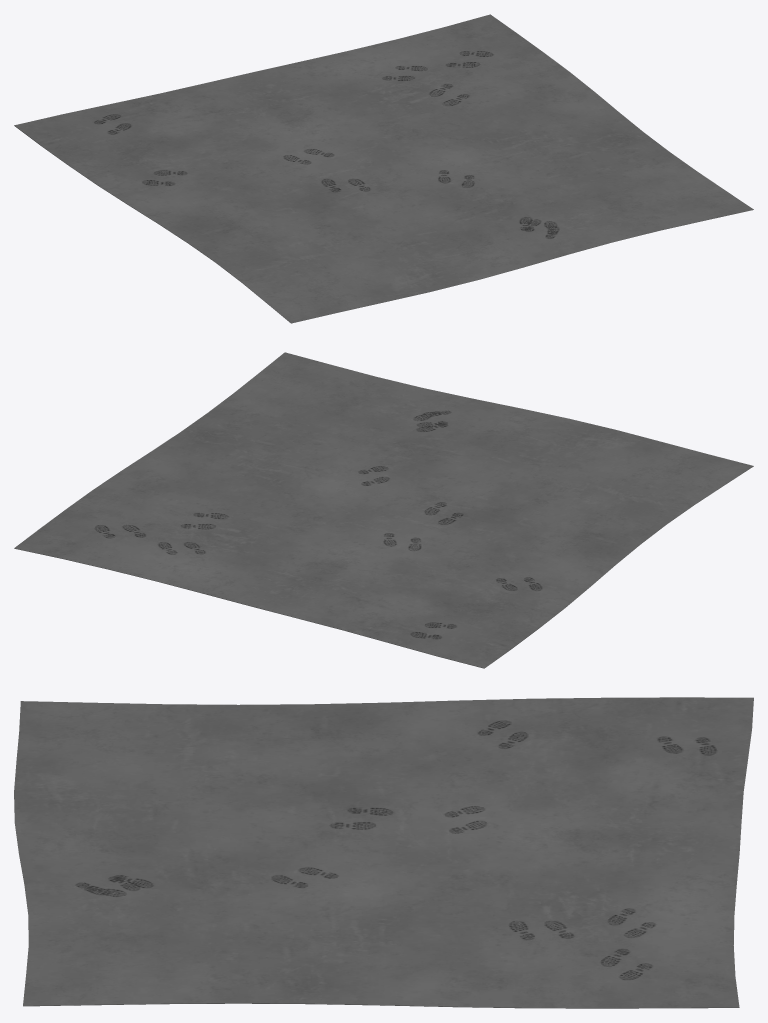
Rendered from SM_Tarp_Floor_Flat02.glb.
The picture shows the model from 3 angles, top to bottom: view 1: azimuth 30°, elevation 25°; view 2: azimuth 150°, elevation 25°; view 3: azimuth 270°, elevation 25°; orthographic projection. The views are drawn at different scales.
Parts seen in each view (by area): view 1: SM_Tarp_Floor_Flat02; view 2: SM_Tarp_Floor_Flat02; view 3: SM_Tarp_Floor_Flat02.
Part boxes in pixels (bbox=[...]): SM_Tarp_Floor_Flat02: bbox=[14, 14, 753, 323]; SM_Tarp_Floor_Flat02: bbox=[14, 352, 753, 668]; SM_Tarp_Floor_Flat02: bbox=[14, 697, 753, 1008].
Size of the model in its own units: 3.62 by 0.0108 by 3.64.
Materials: 1 (1 with a texture image).
